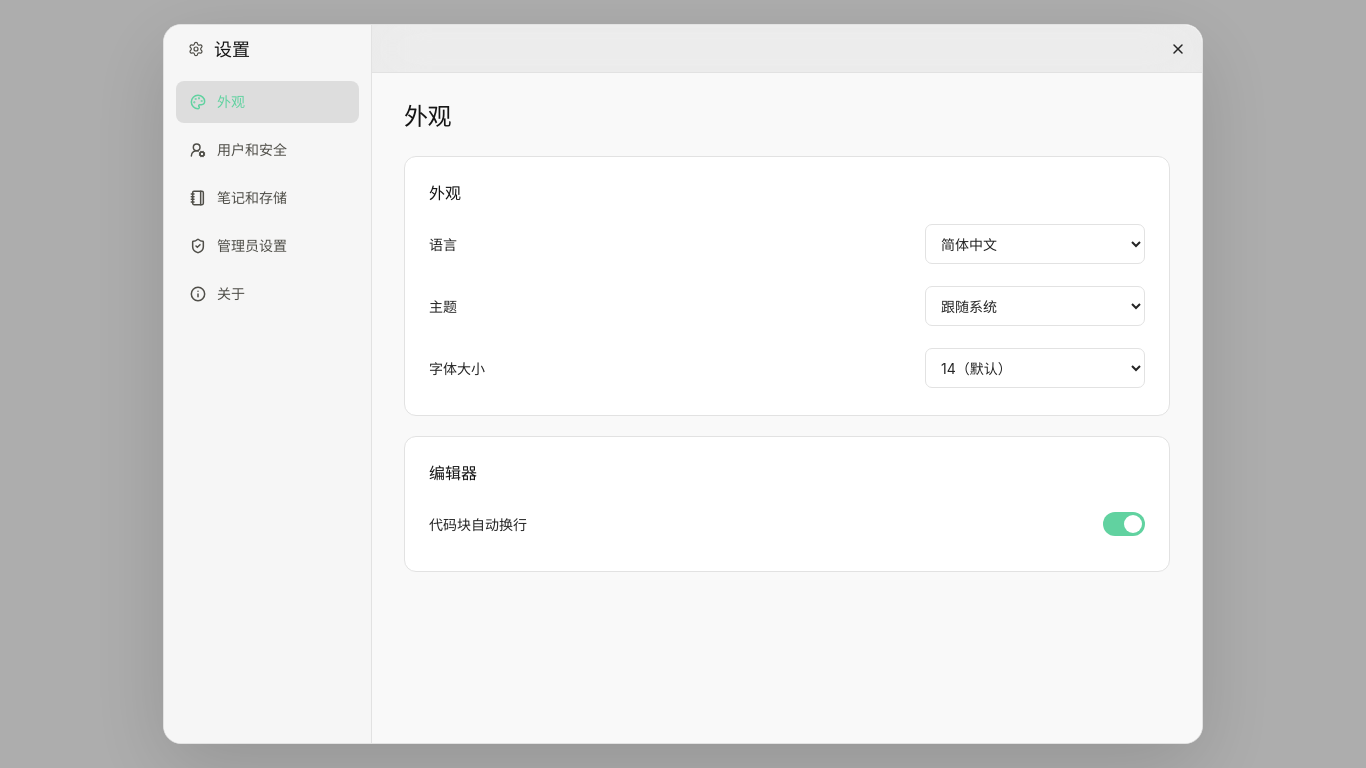
Test case: SettingsPanel › keeps appearance controls separate from the account profile
Expected: the 2nd heading "外观" is shown, [429,183,461,203]
Click the button "用户和安全". click: [268, 150]
box: [176,129,359,171]
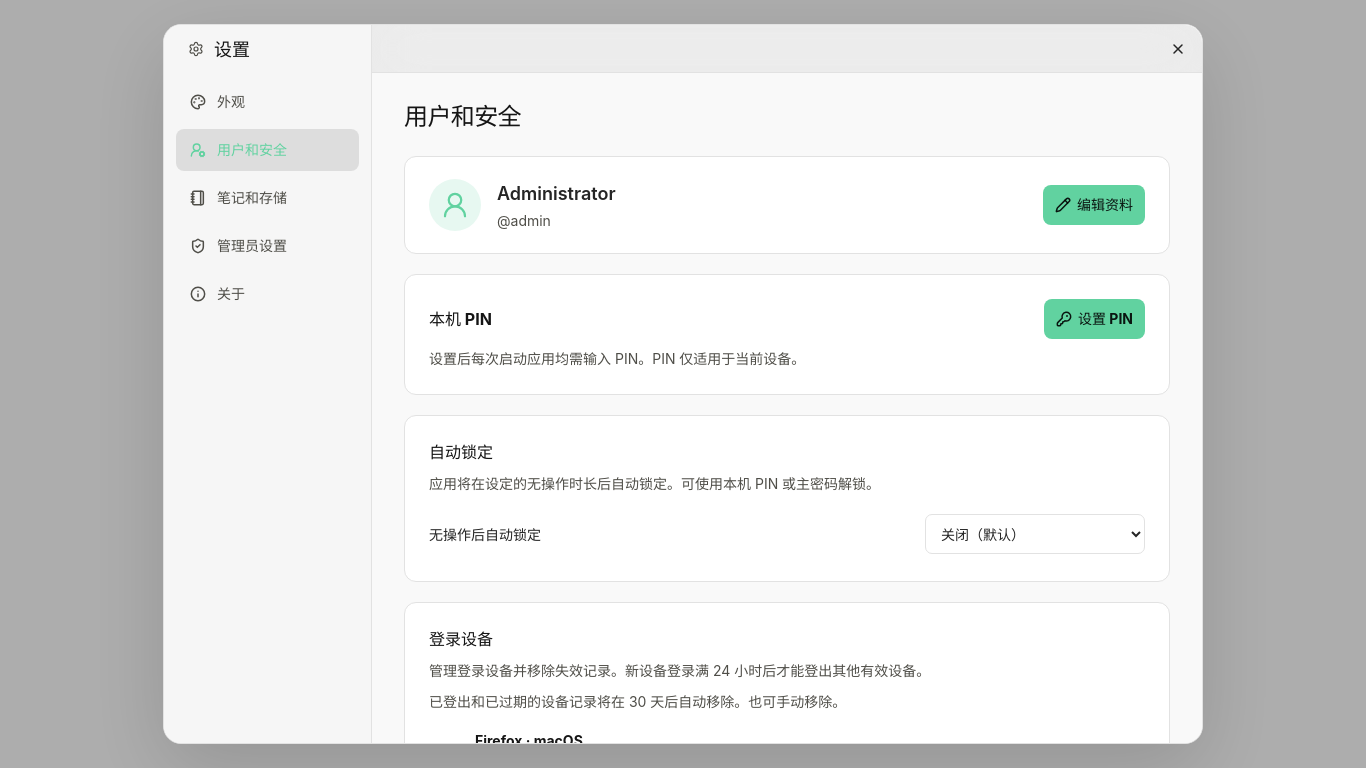
Expected: the text "上传头像" is not shown
Click the button "编辑资料". click: [1094, 205]
box: [1043,185,1145,225]
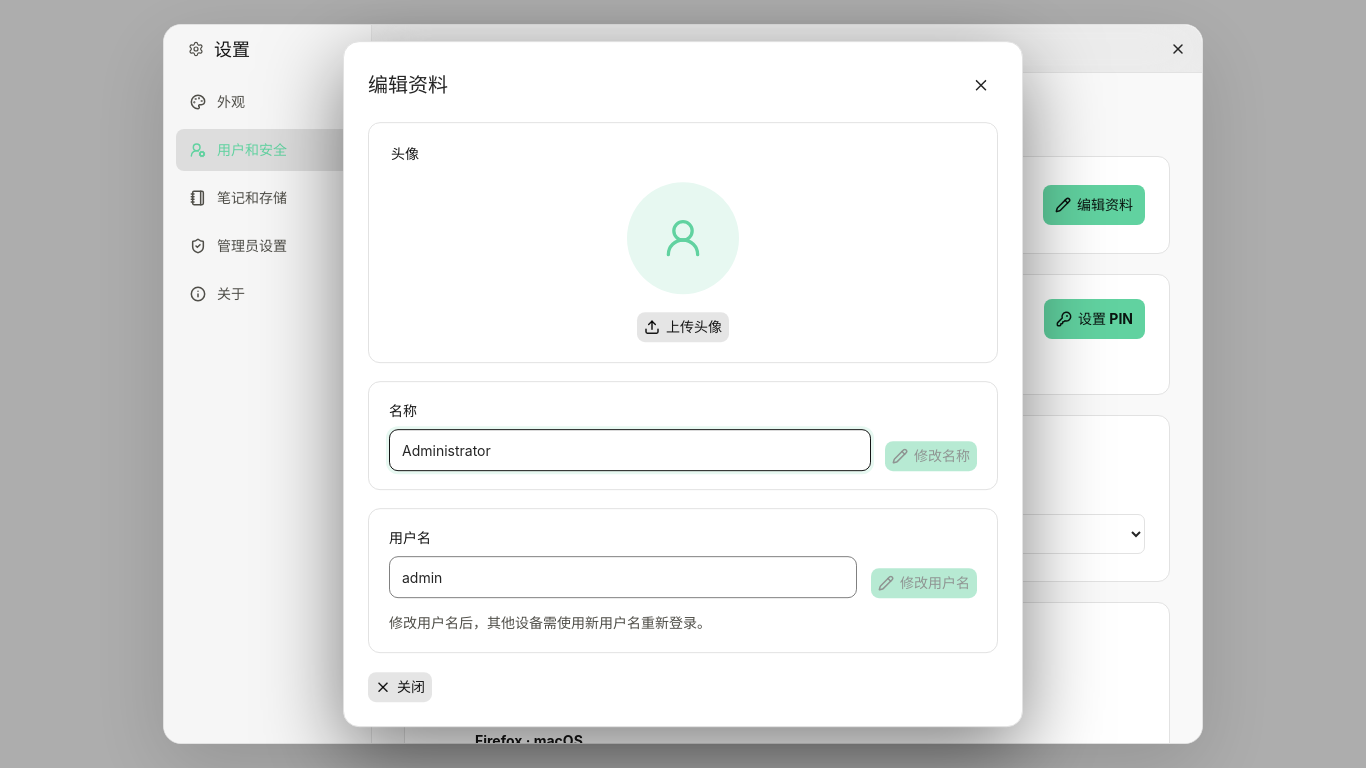
Now the number of fields is 2, box [389,429,871,471]; [389,556,857,598]
Now the number of forms with class "compact-form" is 2, box [368,381,998,490]; [368,508,998,653]
Now the element showing "头像 上传头像" is shown, box [368,122,998,363]
